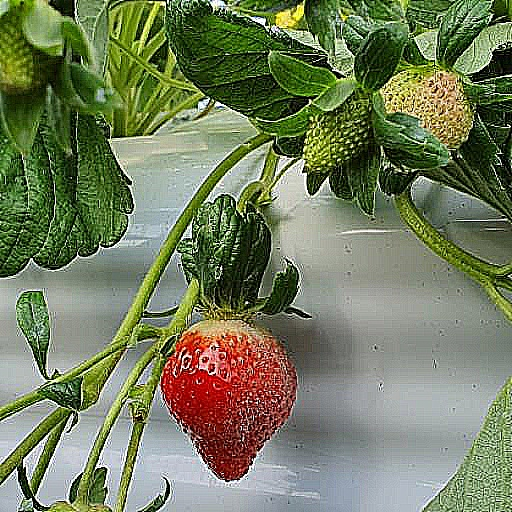Powdery Mildew Fruit: (213, 321, 301, 457)
